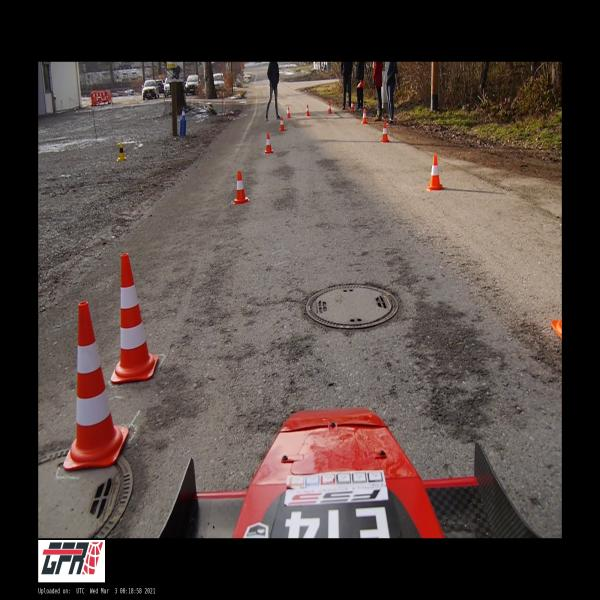blue_cone: (181, 107, 186, 120)
large_orange_cone: (64, 302, 128, 470), (111, 255, 157, 383)
orange_cone: (427, 155, 442, 190), (234, 171, 248, 204), (265, 133, 273, 153), (382, 122, 389, 142), (362, 108, 367, 124), (356, 80, 364, 89), (280, 117, 285, 130), (328, 102, 332, 114), (287, 106, 291, 118), (350, 100, 354, 111), (306, 105, 310, 116)
yellow_cone: (118, 142, 126, 160)
